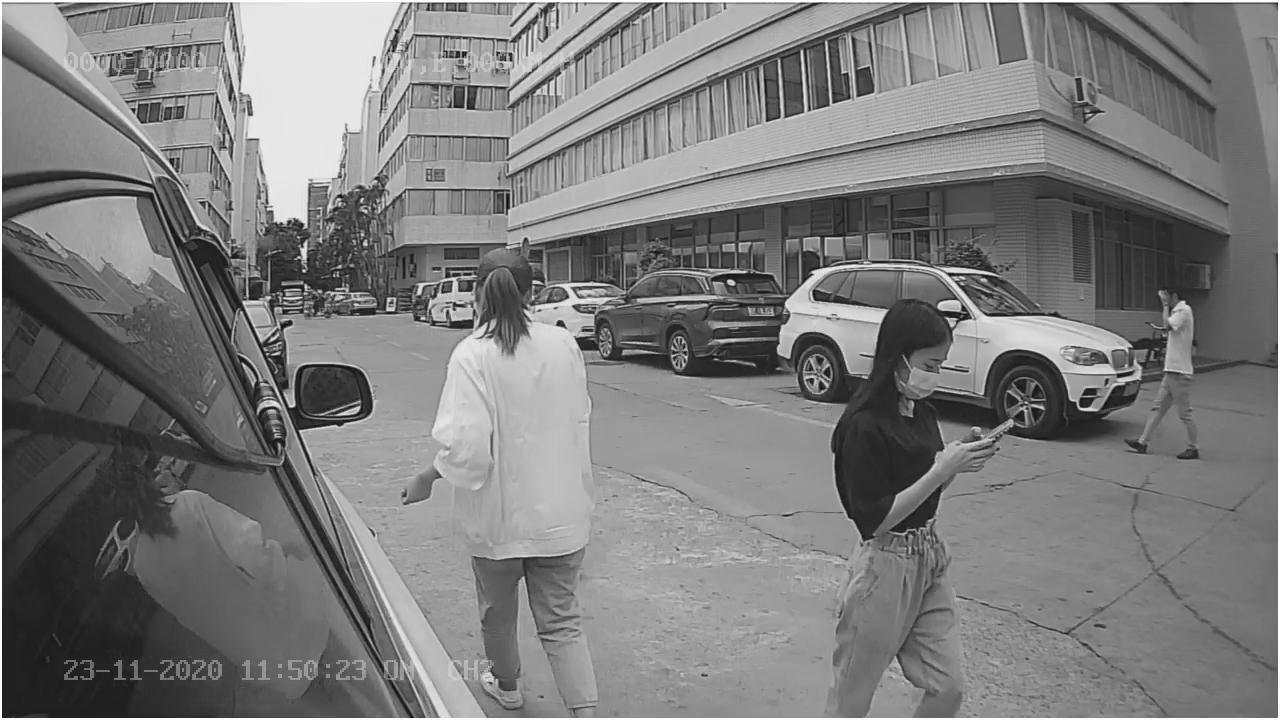person: (395, 237, 617, 516), (818, 298, 1013, 561), (1123, 281, 1205, 462)
